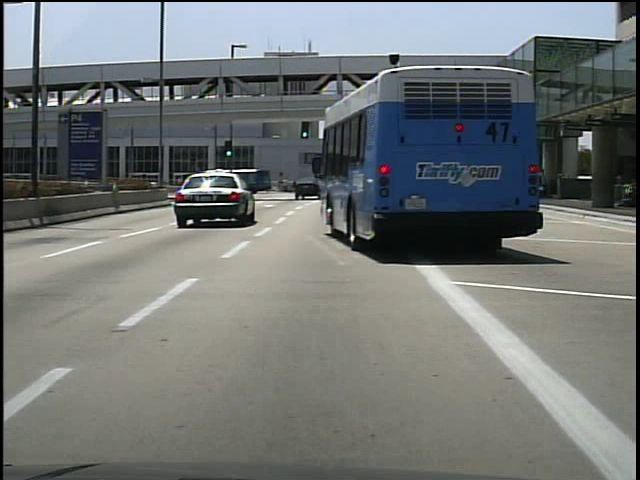person: (280, 177, 292, 195)
